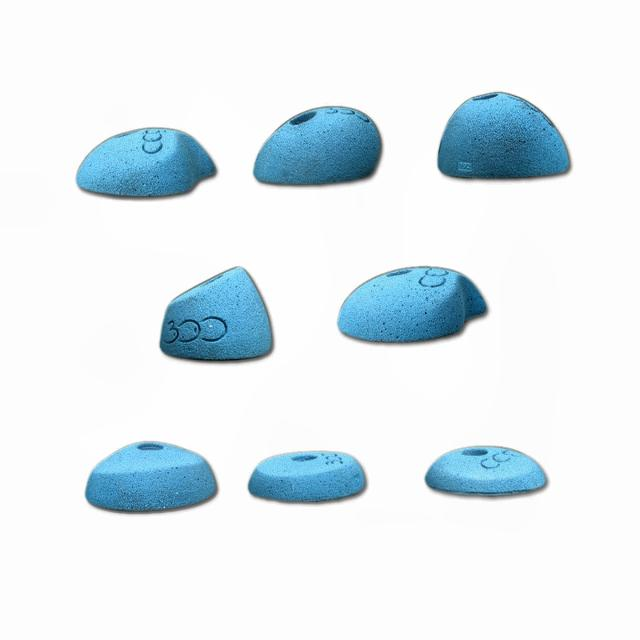Hold: (335, 259, 491, 345), (436, 90, 572, 182), (159, 263, 273, 362), (78, 123, 220, 198), (253, 105, 381, 185), (83, 442, 218, 514), (421, 444, 549, 496), (249, 449, 364, 501)
